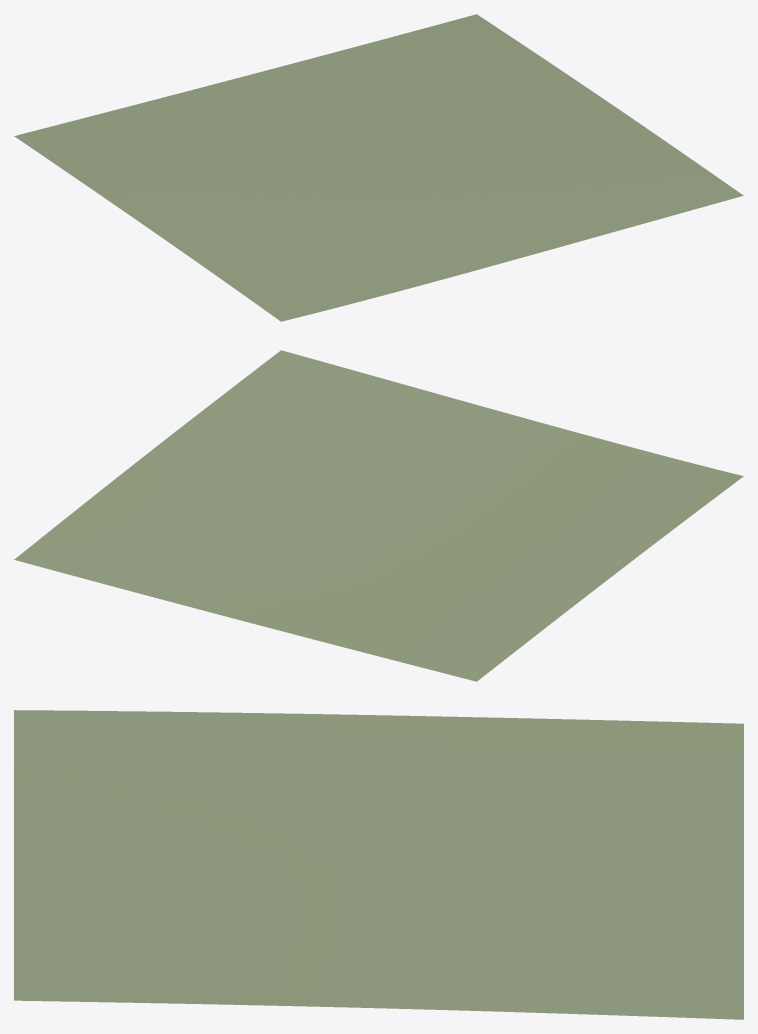
The model's file is expanse-9-25.glb.
The picture shows the model from 3 angles, top to bottom: view 1: azimuth 30°, elevation 25°; view 2: azimuth 150°, elevation 25°; view 3: azimuth 270°, elevation 25°; orthographic projection. The views are drawn at different scales.
Parts seen in each view (by area): view 1: expanse-9-25; view 2: expanse-9-25; view 3: expanse-9-25.
Part boxes in pixels (x1,y1,x2,y2): expanse-9-25: (14,14,743,321); expanse-9-25: (14,350,743,681); expanse-9-25: (14,710,743,1019).
Bounding box in the file's own units: 256 × 12.2 × 256.
